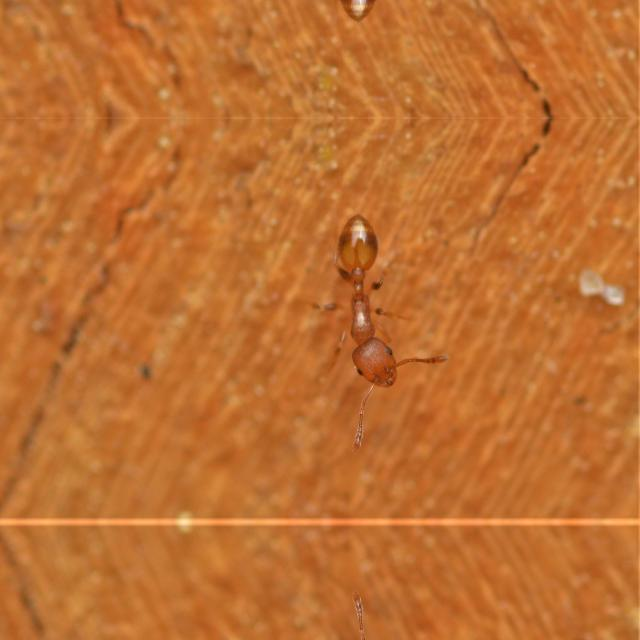Temnothorax: (280, 194, 460, 416)
